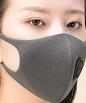with_mask: (1, 1, 86, 103)
